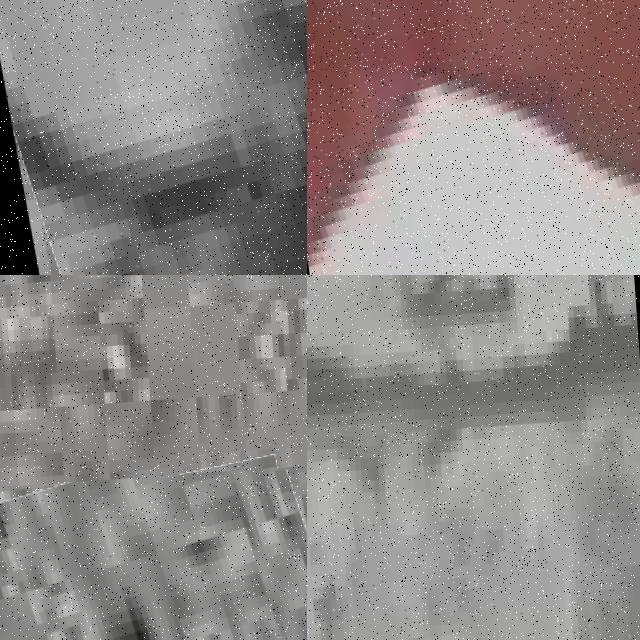0: (0, 0, 307, 275), (0, 464, 307, 640)
drone: (307, 0, 640, 275)
